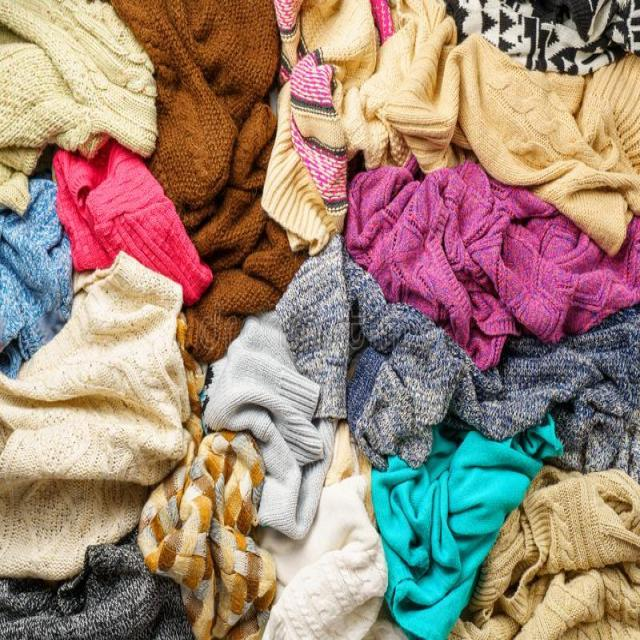clothes: (61, 60, 589, 567)
